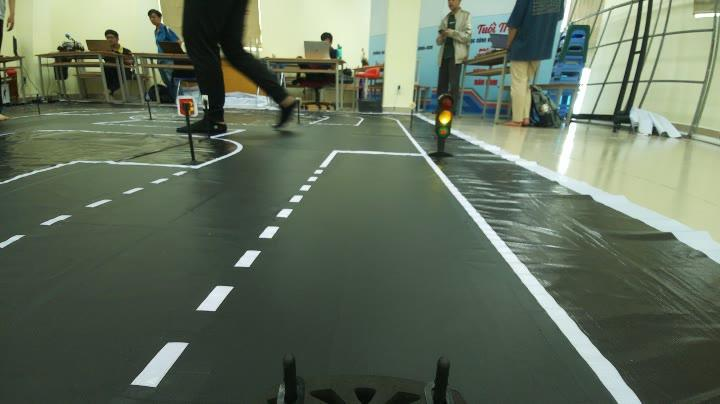trafficlight: (420, 85, 461, 162)
